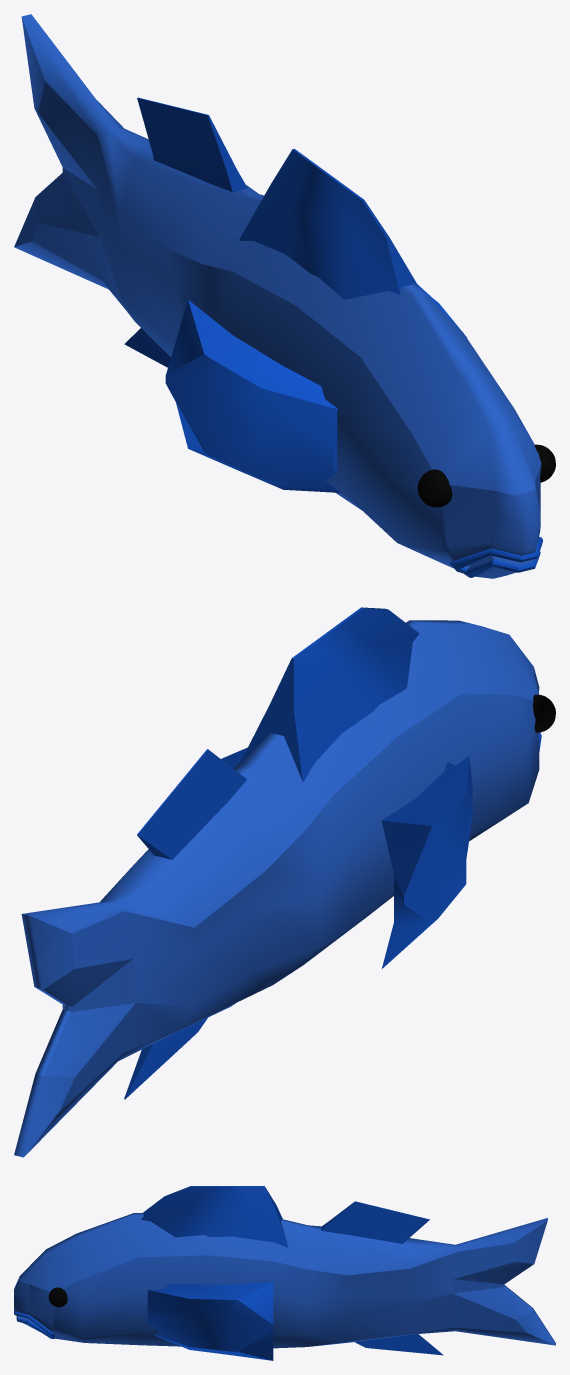
File: Fisken.FBX
3 renders of one model, top to bottom at view 1: azimuth 30°, elevation 25°; view 2: azimuth 150°, elevation 25°; view 3: azimuth 270°, elevation 25°, orthographic. The views are drawn at different scales.
Visible parts, largest first — view 1: pCube1; view 2: pCube1; view 3: pCube1.
Boxes of the visible parts, left/top/right/bottom form: pCube1: left=14, top=14, right=555, bottom=578; pCube1: left=14, top=607, right=555, bottom=1157; pCube1: left=14, top=1186, right=555, bottom=1360.
Bounding box in the file's own units: 0.1932 × 0.2463 × 0.7161.
